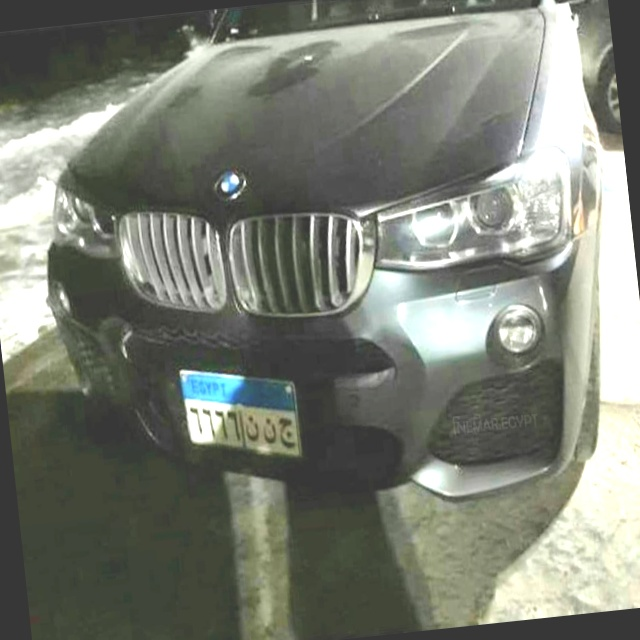License Plate: (174, 351, 308, 477)
